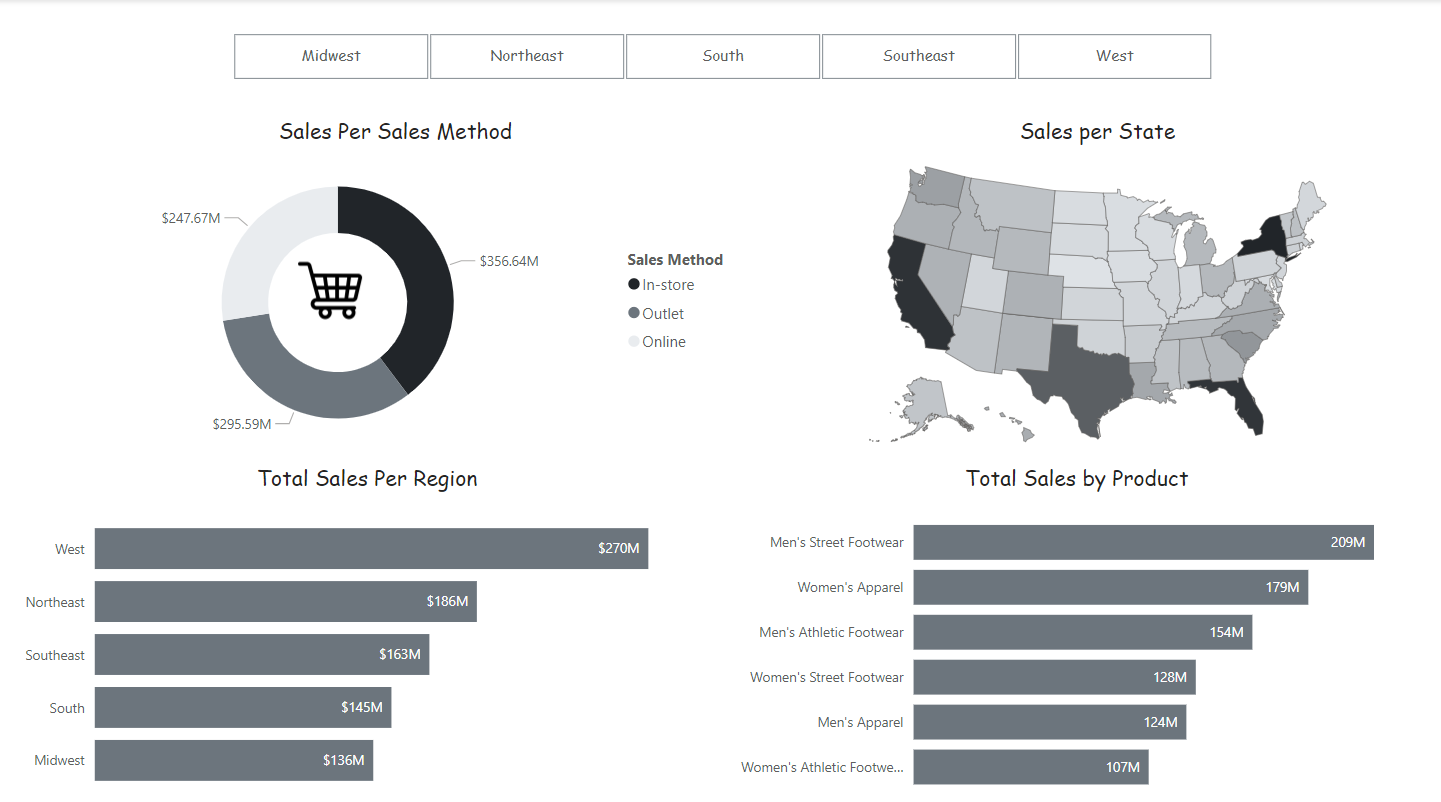

What the dashboard file says about the page in this screenshot:
{"tool":"powerbi","page":{"name":"Sales","canvas":[1280,720],"ordinal":1},"visuals":[{"type":"donutChart","title":"Sales Per Sales Method","fields":{"Y":["Sum(Data Sales Adidas.Total Sales)"],"Category":["Data Sales Adidas.Sales Method"]},"box":[38.1,103.6,626.3,303.2],"z":0},{"type":"barChart","fields":{"Category":["Data Sales Adidas.Product"],"Y":["Data Sales Adidas.Total_Sales"]},"box":[640,409.9,629.3,306.3],"z":1000},{"type":"barChart","title":"Total Sales Per Region","fields":{"Y":["Sum(Data Sales Adidas.Total Sales)"],"Category":["Data Sales Adidas.Region"]},"box":[13.7,409.9,626.3,306.3],"z":2000},{"type":"shapeMap","title":"Sales per State","fields":{"Category":["Data Sales Adidas.State"],"Value":["Sum(Data Sales Adidas.Total Sales)"]},"box":[664.4,103.6,615.6,306.3],"z":3000},{"type":"image","box":[260.6,224,67,67],"z":4000},{"type":"slicer","fields":{"Values":["Data Sales Adidas.Region"]},"box":[182.9,24.4,914.3,53.3],"z":5000}]}

Visuals, with their boxes in screenshot pixels (x1, y1, x2, y2), scaled from the page's 1280x720 canvas onto the 1441x802 screenshot:
"Sales Per Sales Method" donutChart: region(43, 115, 748, 453)
barChart - Data Sales Adidas.Product x Data Sales Adidas.Total_Sales: region(720, 457, 1429, 798)
"Total Sales Per Region" barChart: region(15, 457, 720, 798)
"Sales per State" shapeMap: region(748, 115, 1440, 457)
image: region(293, 250, 369, 324)
slicer - Data Sales Adidas.Region: region(206, 27, 1235, 87)
